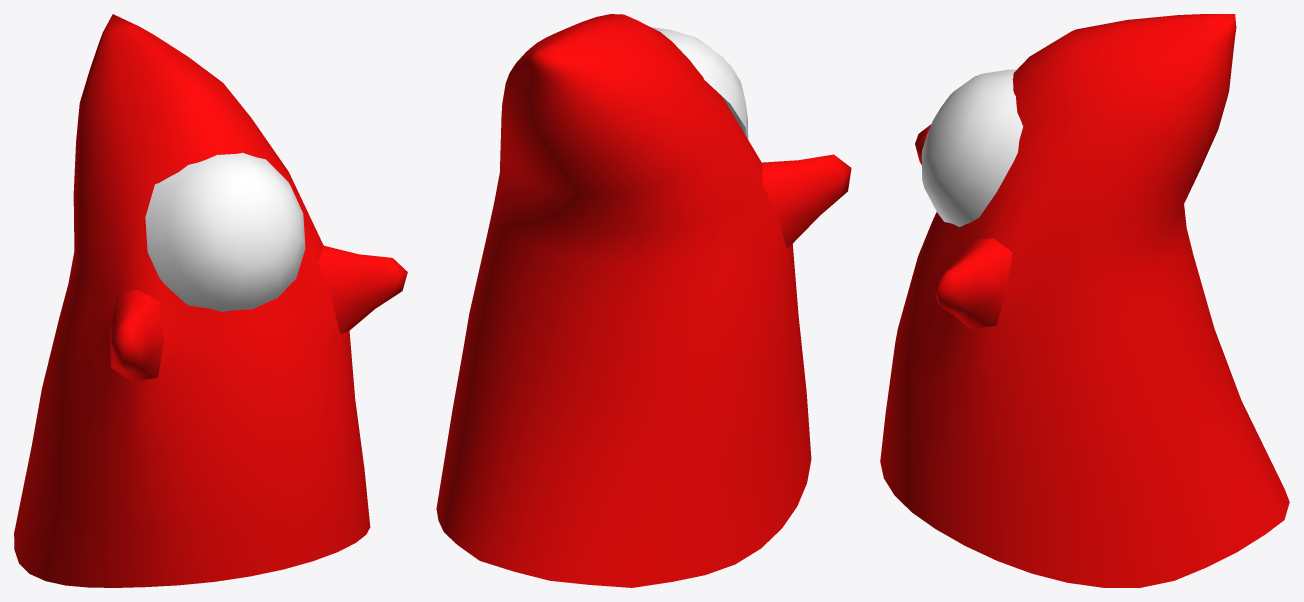
Rendered from heojuo_low.fbx.
3 renders of one model, left to right at view 1: azimuth 30°, elevation 25°; view 2: azimuth 150°, elevation 25°; view 3: azimuth 270°, elevation 25°, orthographic. The views are drawn at different scales.
Visible parts, largest first — view 1: Cylinder001, Sphere001; view 2: Cylinder001, Sphere001; view 3: Cylinder001, Sphere001.
Boxes of the visible parts, left/top/right/bottom form: Cylinder001: left=14, top=14, right=407, bottom=587; Sphere001: left=145, top=152, right=305, bottom=311; Cylinder001: left=436, top=14, right=851, bottom=587; Sphere001: left=651, top=27, right=748, bottom=139; Cylinder001: left=880, top=14, right=1289, bottom=587; Sphere001: left=921, top=69, right=1023, bottom=227.
Size of the model in its own units: 27.29 by 41.92 by 30.96.
